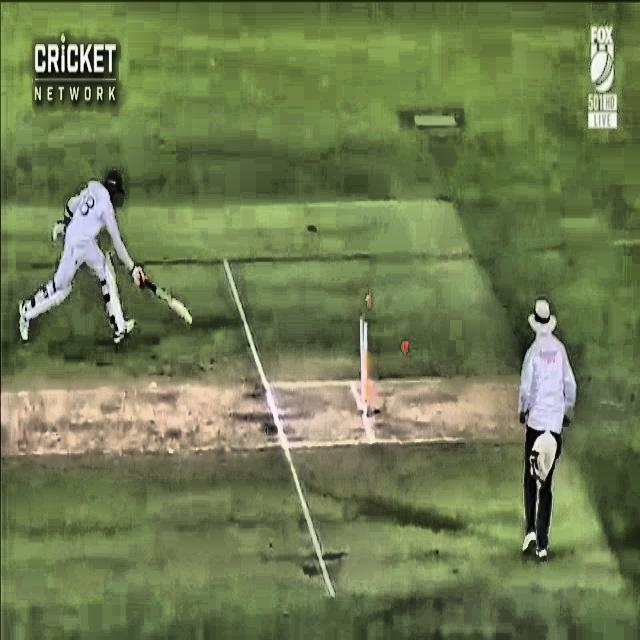Ball: (393, 330, 421, 361)
Bat: (126, 263, 197, 328)
Dis_Wicket: (342, 278, 383, 429)
Pitch_Line: (222, 259, 336, 598)
